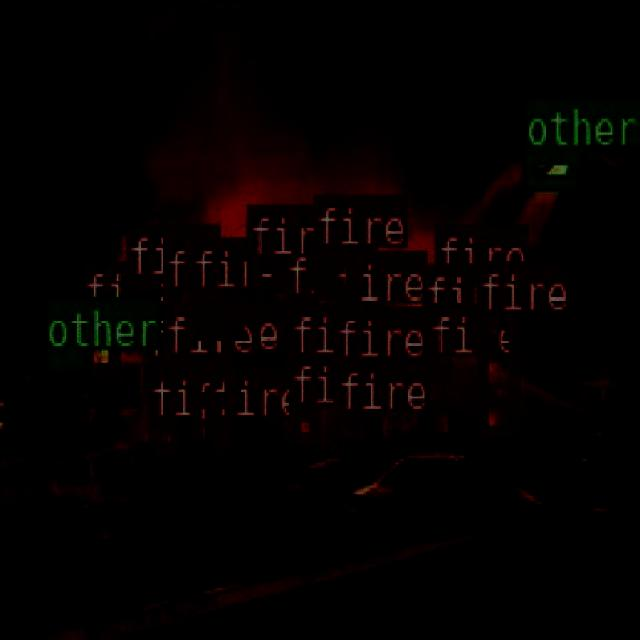fire: (476, 312, 518, 438), (188, 288, 242, 336), (186, 350, 234, 402), (434, 276, 500, 312), (82, 313, 118, 375), (312, 246, 354, 297), (124, 277, 158, 325), (331, 301, 364, 347), (332, 356, 366, 396), (288, 403, 318, 443), (246, 254, 280, 288), (282, 296, 315, 329), (148, 418, 178, 452), (334, 412, 366, 439), (209, 417, 231, 451), (288, 355, 314, 383), (163, 289, 180, 326), (140, 359, 160, 387), (421, 314, 444, 337), (426, 356, 448, 378), (164, 356, 178, 384), (188, 419, 198, 444)
